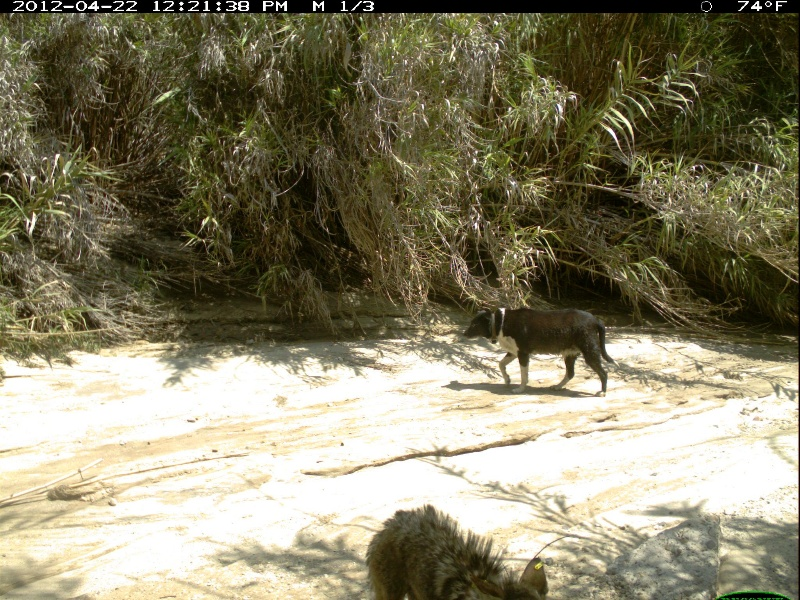dog: (357, 501, 549, 600), (466, 302, 621, 402)
